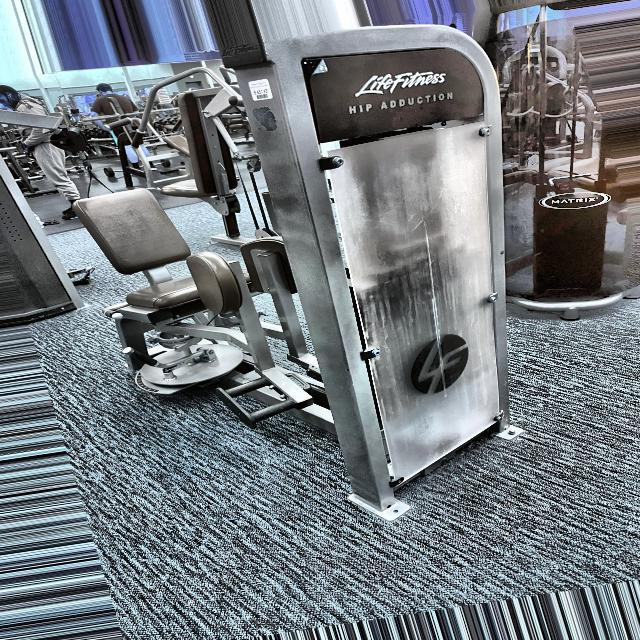hip_adduction_machine: (65, 158, 336, 442), (338, 81, 469, 141)
